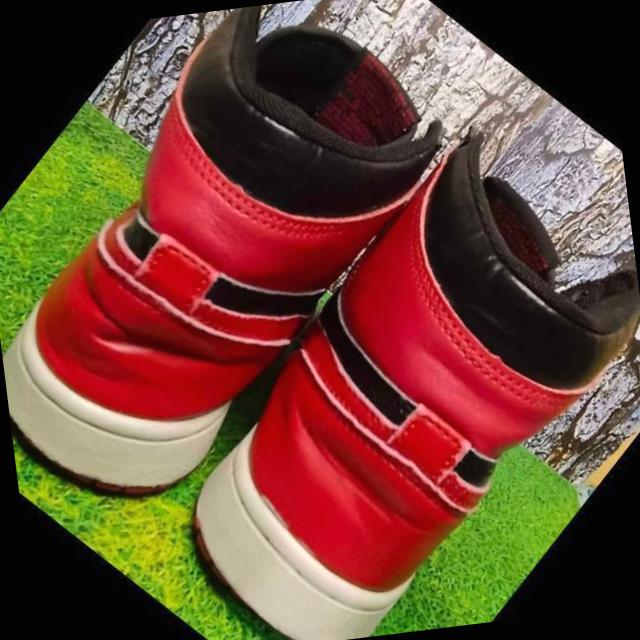nike_fake_jordan: (97, 96, 640, 640), (0, 0, 514, 551)
